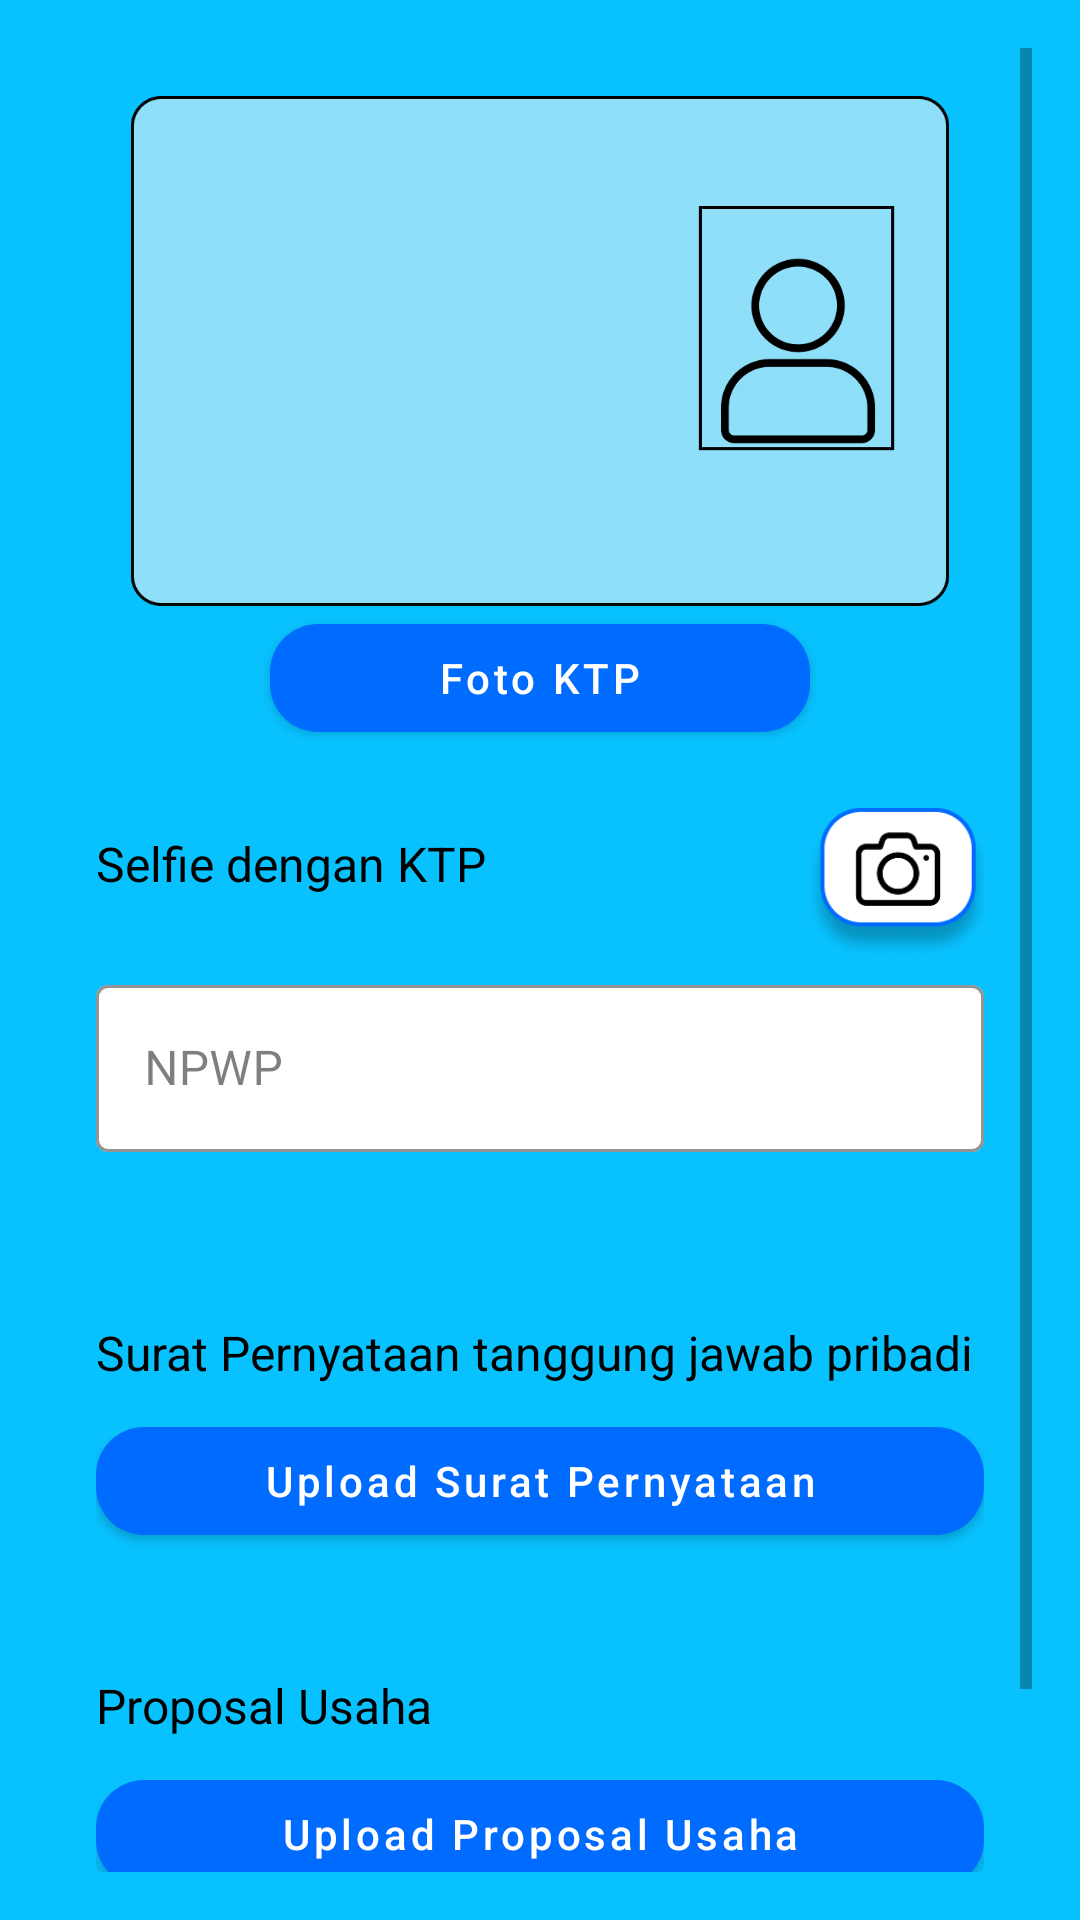

Where icons sit on this 1080w x 1920h app screen, as BBox(x1, y1, x2, y2):
camera: BBox(818, 808, 978, 945)
